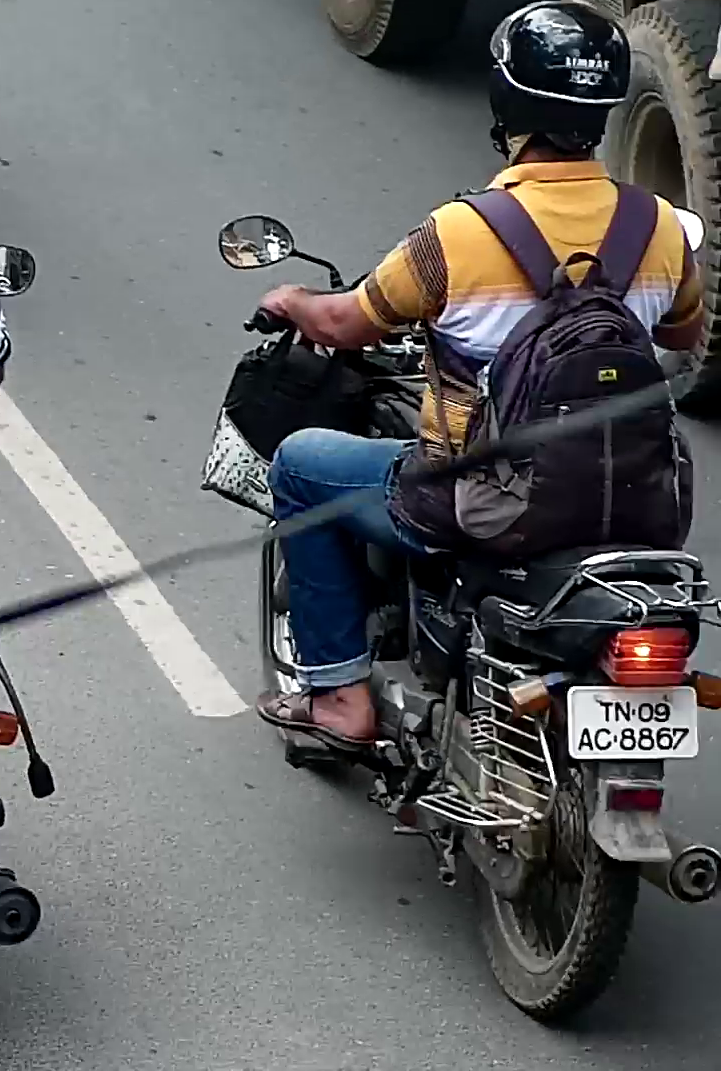.: (613, 734, 618, 743), (632, 709, 636, 716)
0: (638, 702, 654, 722)
6: (655, 726, 672, 750)
7: (672, 727, 690, 751)
8: (619, 728, 637, 751), (638, 727, 655, 751)
9: (654, 702, 671, 723)
A: (577, 728, 594, 751)
C: (594, 727, 612, 750)
N: (614, 700, 631, 722)
P16: (563, 683, 699, 762)
T: (599, 701, 614, 722)
